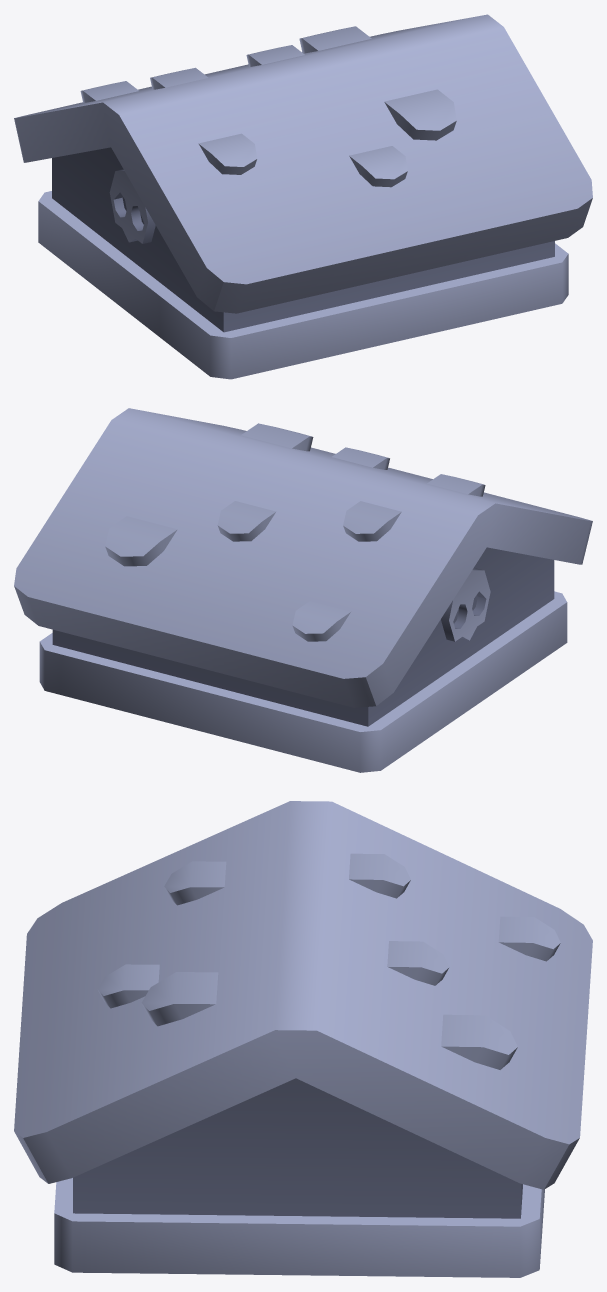
Rendered from crypt-small-roof.001_lev2.glb.
3 views of the same model, one above another, from view 1: azimuth 30°, elevation 25°; view 2: azimuth 150°, elevation 25°; view 3: azimuth 270°, elevation 25° (orthographic). The views are drawn at different scales.
Parts seen in each view (by area): view 1: crypt-small-roof.001_lev2; view 2: crypt-small-roof.001_lev2; view 3: crypt-small-roof.001_lev2.
Part boxes in pixels (x1=…): crypt-small-roof.001_lev2: x1=14, y1=14, x2=592, y2=379; crypt-small-roof.001_lev2: x1=14, y1=408, x2=592, y2=772; crypt-small-roof.001_lev2: x1=14, y1=801, x2=592, y2=1277.
Bounding box in the file's own units: 11.79 × 5.92 × 12.28.
Materials: 1 (1 with a texture image).
